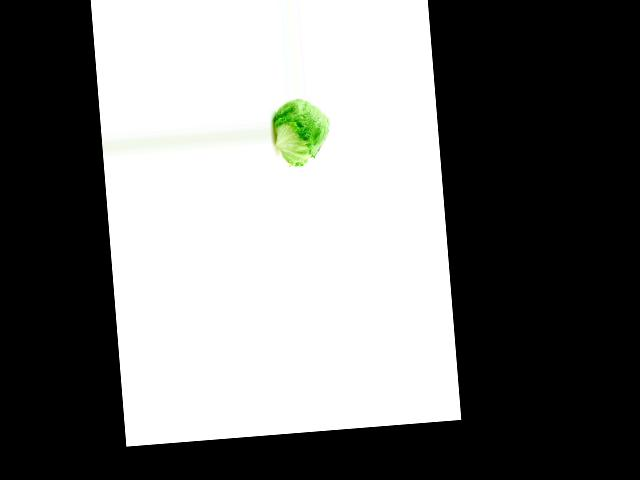lettuce: (271, 94, 334, 168)
